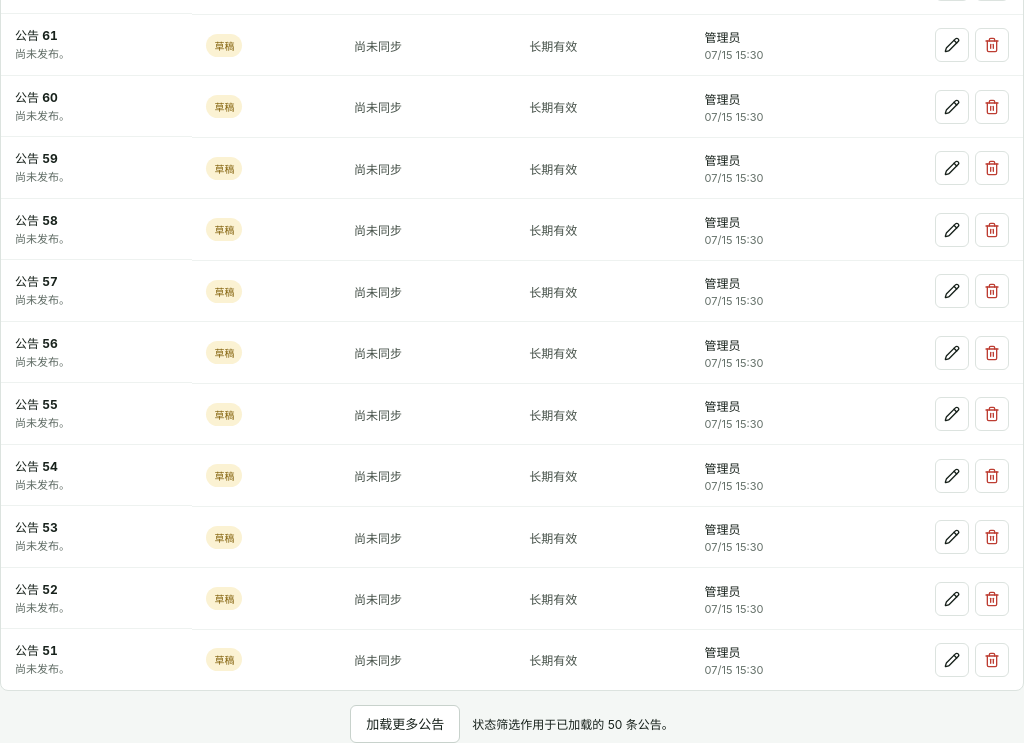
Scenario: AdminAnnouncementsPage with Supabase configured › loads the next page with the last visible announcement ID
(page scrolled)
expect the row "公告 50" is not shown: met
Click the button "加载更多公告" at (405, 724), box [350,705,460,742]
(page scrolled)
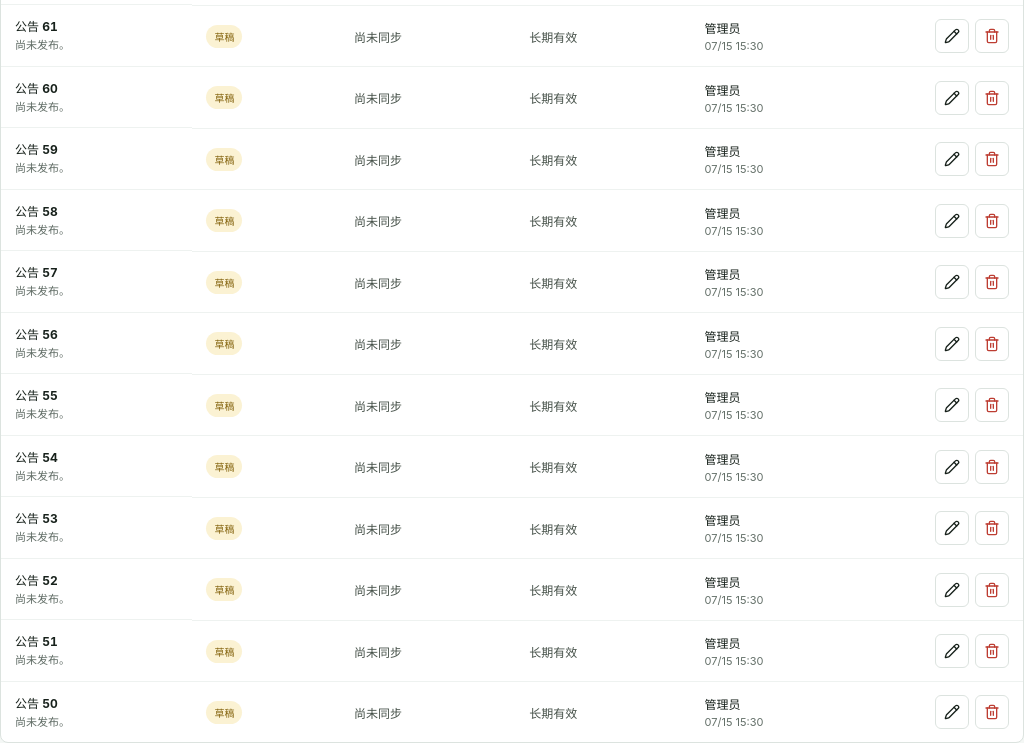
expect the row "公告 50 尚未发布。 草稿 尚未同步 长期有效 管理员 07/15 15:30" is shown: met, box [1,682,1023,742]
